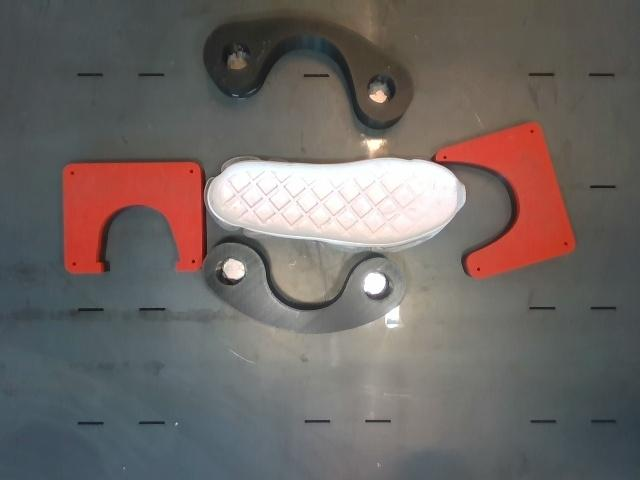shoes: (209, 159, 464, 245)
